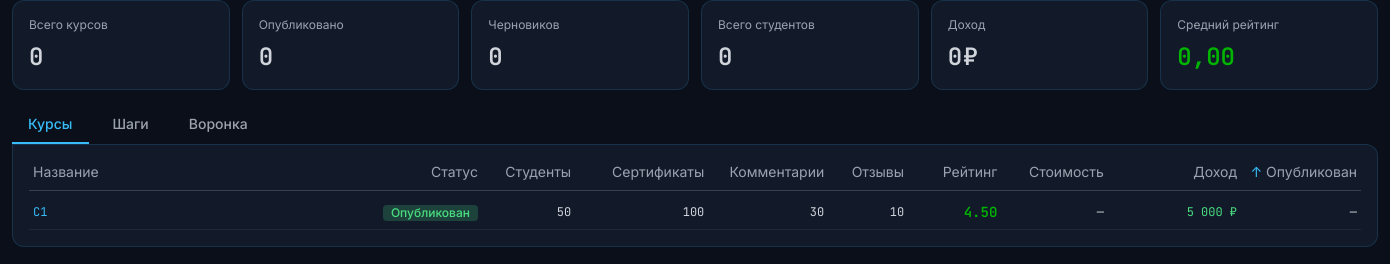
Test case: Courses › loads course structure on the Шаги tab
Click the button "Шаги". click: (131, 125)
box: [96,106,165,144]
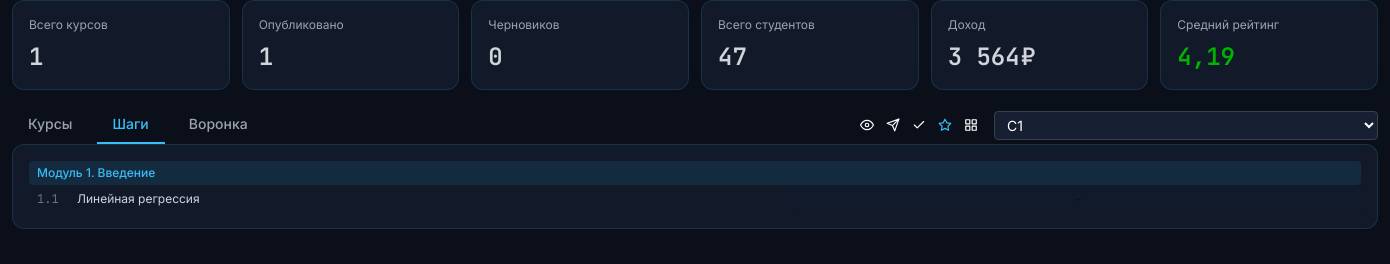
Check: the text "Модуль 1. Введение" is shown, box [29,161,1361,185]
Check: the text "Линейная регрессия" is shown, box [77,191,200,207]
